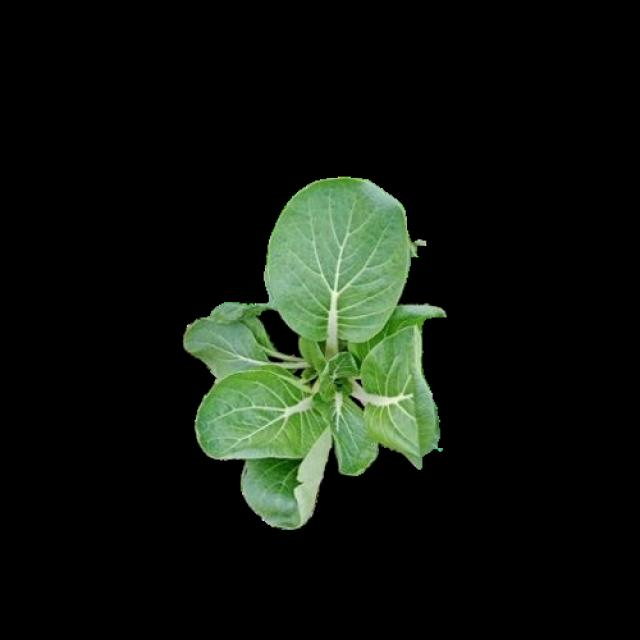healthy: (193, 193, 439, 521)
not-mature: (186, 179, 442, 524)
